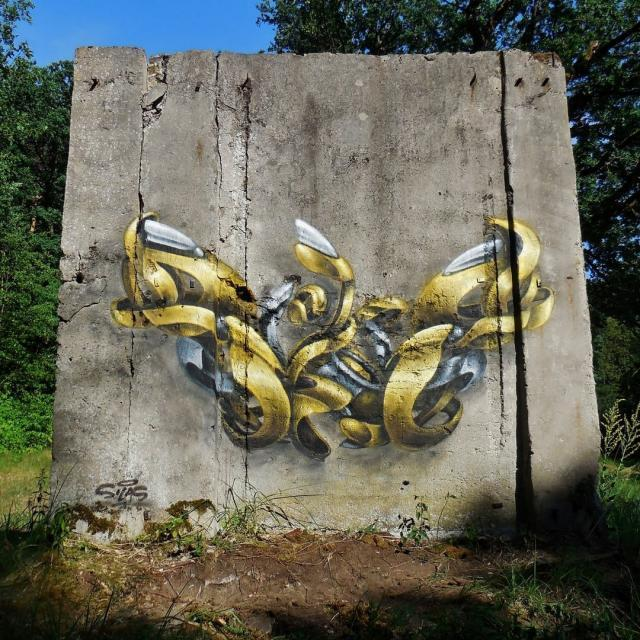-: (100, 198, 564, 453)
